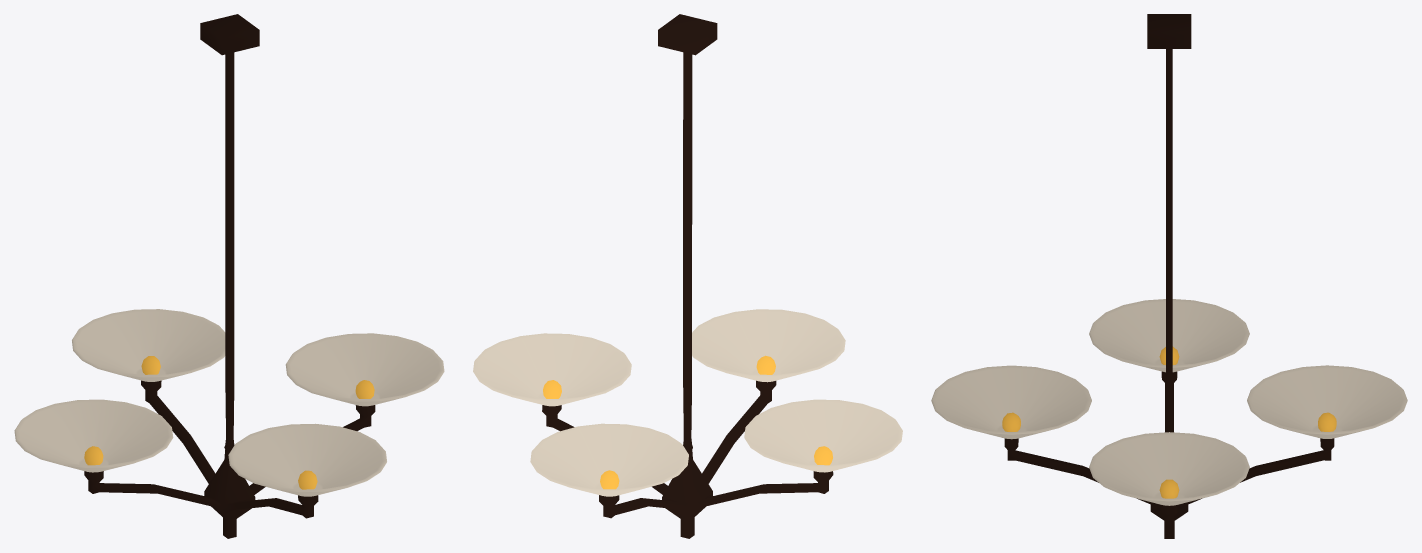
3 views of the same model, side by side, from view 1: azimuth 30°, elevation 25°; view 2: azimuth 150°, elevation 25°; view 3: azimuth 270°, elevation 25° (orthographic).
Parts seen in each view (by area): view 1: FP222:Base5_9f220128; view 2: FP222:Base5_9f220128; view 3: FP222:Base5_9f220128.
Boxes of the visible parts, x1,y1,x2,y2 form: FP222:Base5_9f220128: [14, 14, 444, 538]; FP222:Base5_9f220128: [473, 14, 902, 538]; FP222:Base5_9f220128: [931, 14, 1407, 538].
Bounding box in the file's own units: 0.6623 × 0.7875 × 0.6623.
